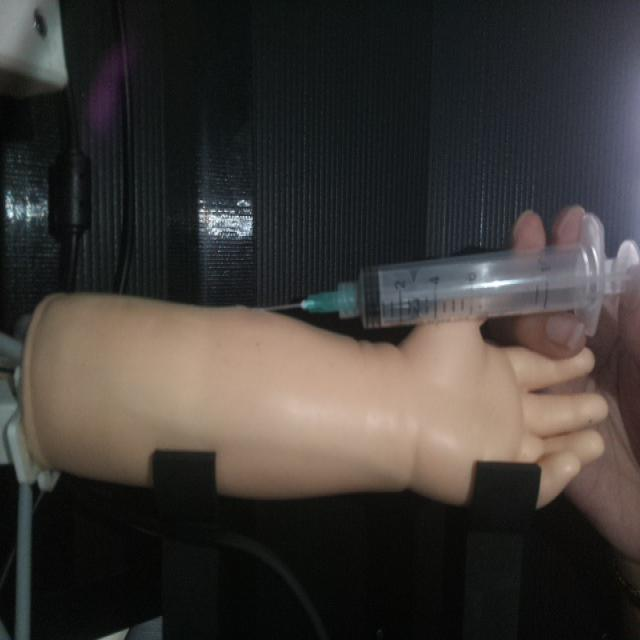Outside: (262, 212, 638, 335)
